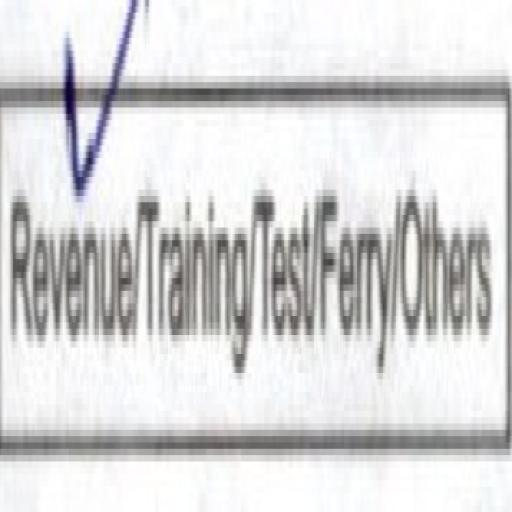check: (0, 0, 140, 478)
